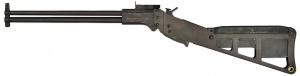rifle: (0, 4, 300, 76)
